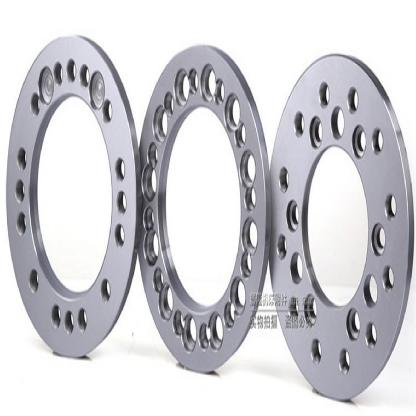FOD: (263, 45, 415, 406), (133, 37, 272, 379), (5, 31, 139, 363)
